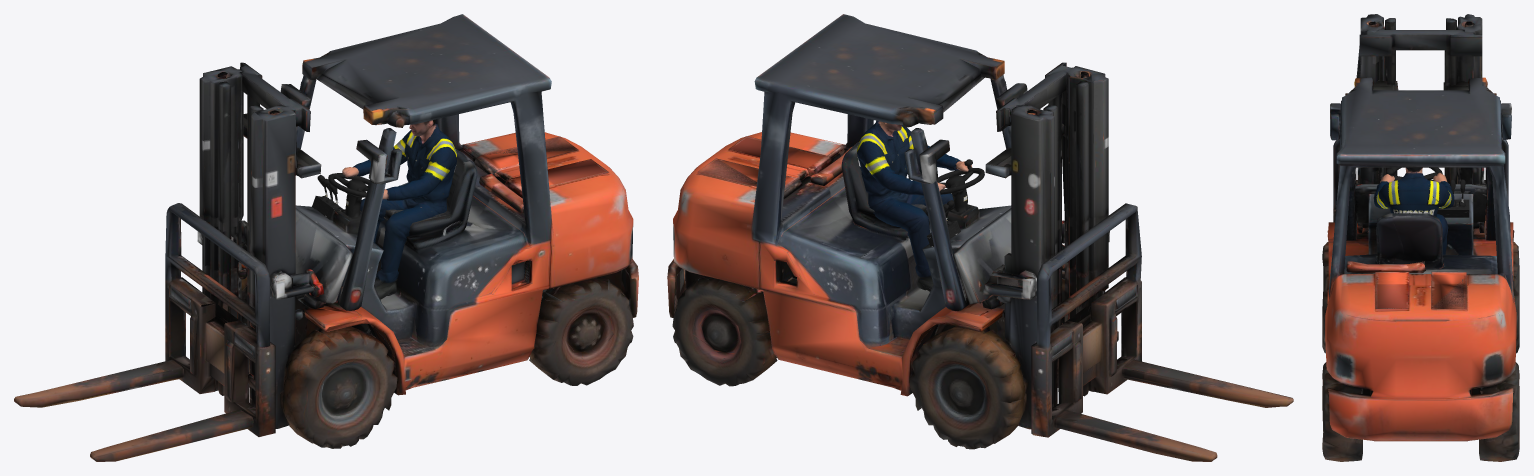
Rendered from ForkLiftWithOperator_optimized.glb.
3 views of the same model, side by side, from view 1: azimuth 30°, elevation 25°; view 2: azimuth 150°, elevation 25°; view 3: azimuth 270°, elevation 25° (orthographic). The views are drawn at different scales.
Parts seen in each view (by area): view 1: ForkliftBody, OperatorInsideForklift, SteeringWheelofForklift, ControllerOFForklift; view 2: ForkliftBody, OperatorInsideForklift, SteeringWheelofForklift; view 3: ForkliftBody, OperatorInsideForklift, ControllerOFForklift, SteeringWheelofForklift.
Part boxes in pixels (<box>): ForkliftBody: <box>14,14,638,461</box>; OperatorInsideForklift: <box>342,119,456,299</box>; SteeringWheelofForklift: <box>328,173,369,217</box>; ControllerOFForklift: <box>312,174,343,220</box>; ForkliftBody: <box>667,14,1293,461</box>; OperatorInsideForklift: <box>857,120,971,291</box>; SteeringWheelofForklift: <box>936,159,984,212</box>; ForkliftBody: <box>1322,14,1519,461</box>; OperatorInsideForklift: <box>1373,167,1454,254</box>; ControllerOFForklift: <box>1437,179,1469,217</box>; SteeringWheelofForklift: <box>1386,167,1442,180</box>.
Size of the model in its own units: 2.1 by 1.2 by 0.7006.
3 materials, 3 textured.
